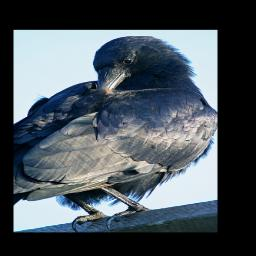Crow: (13, 35, 216, 231)
